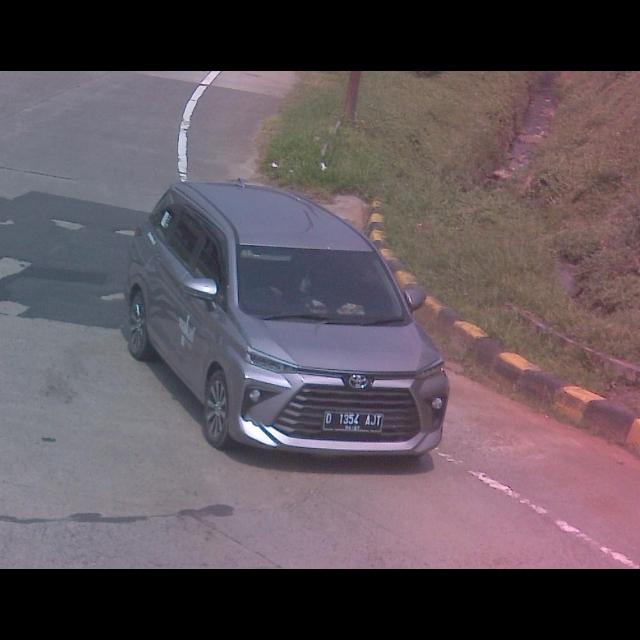plate: (322, 410, 386, 434)
